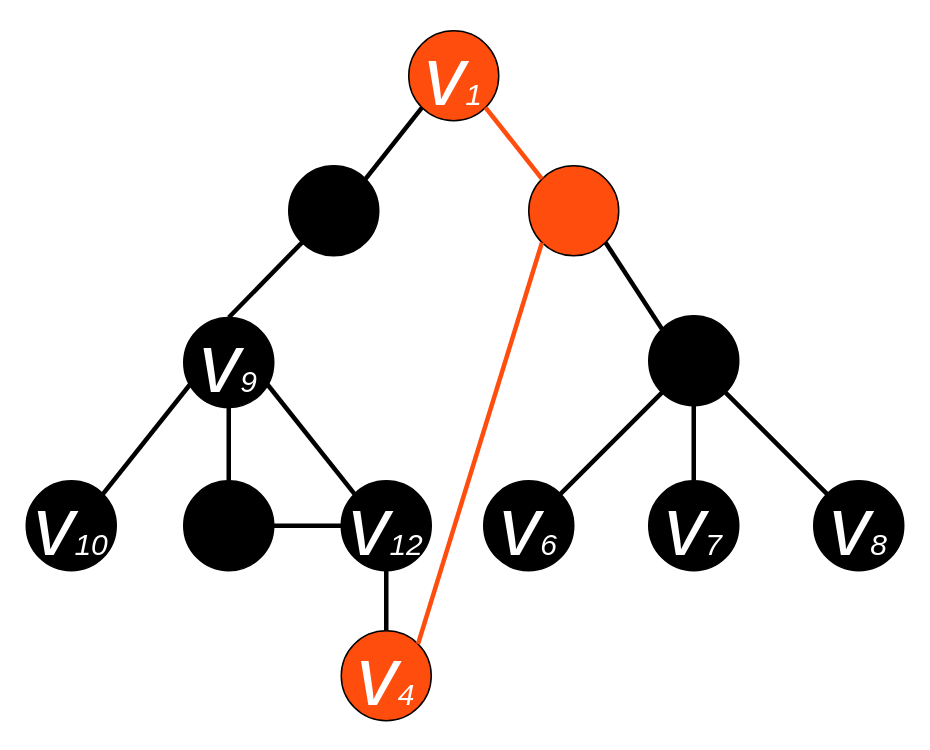
Some shapes in this 930 by 750 pixel diagram are drawn without their labels. The shapes that lost their labels are listed below. From the top down, each one's box as (x1, y1, x2, y2) in pixels, then its label:
(287, 164, 379, 256): v 2
(527, 164, 619, 256): v 3
(647, 314, 739, 406): v 5
(182, 479, 274, 571): v 11
